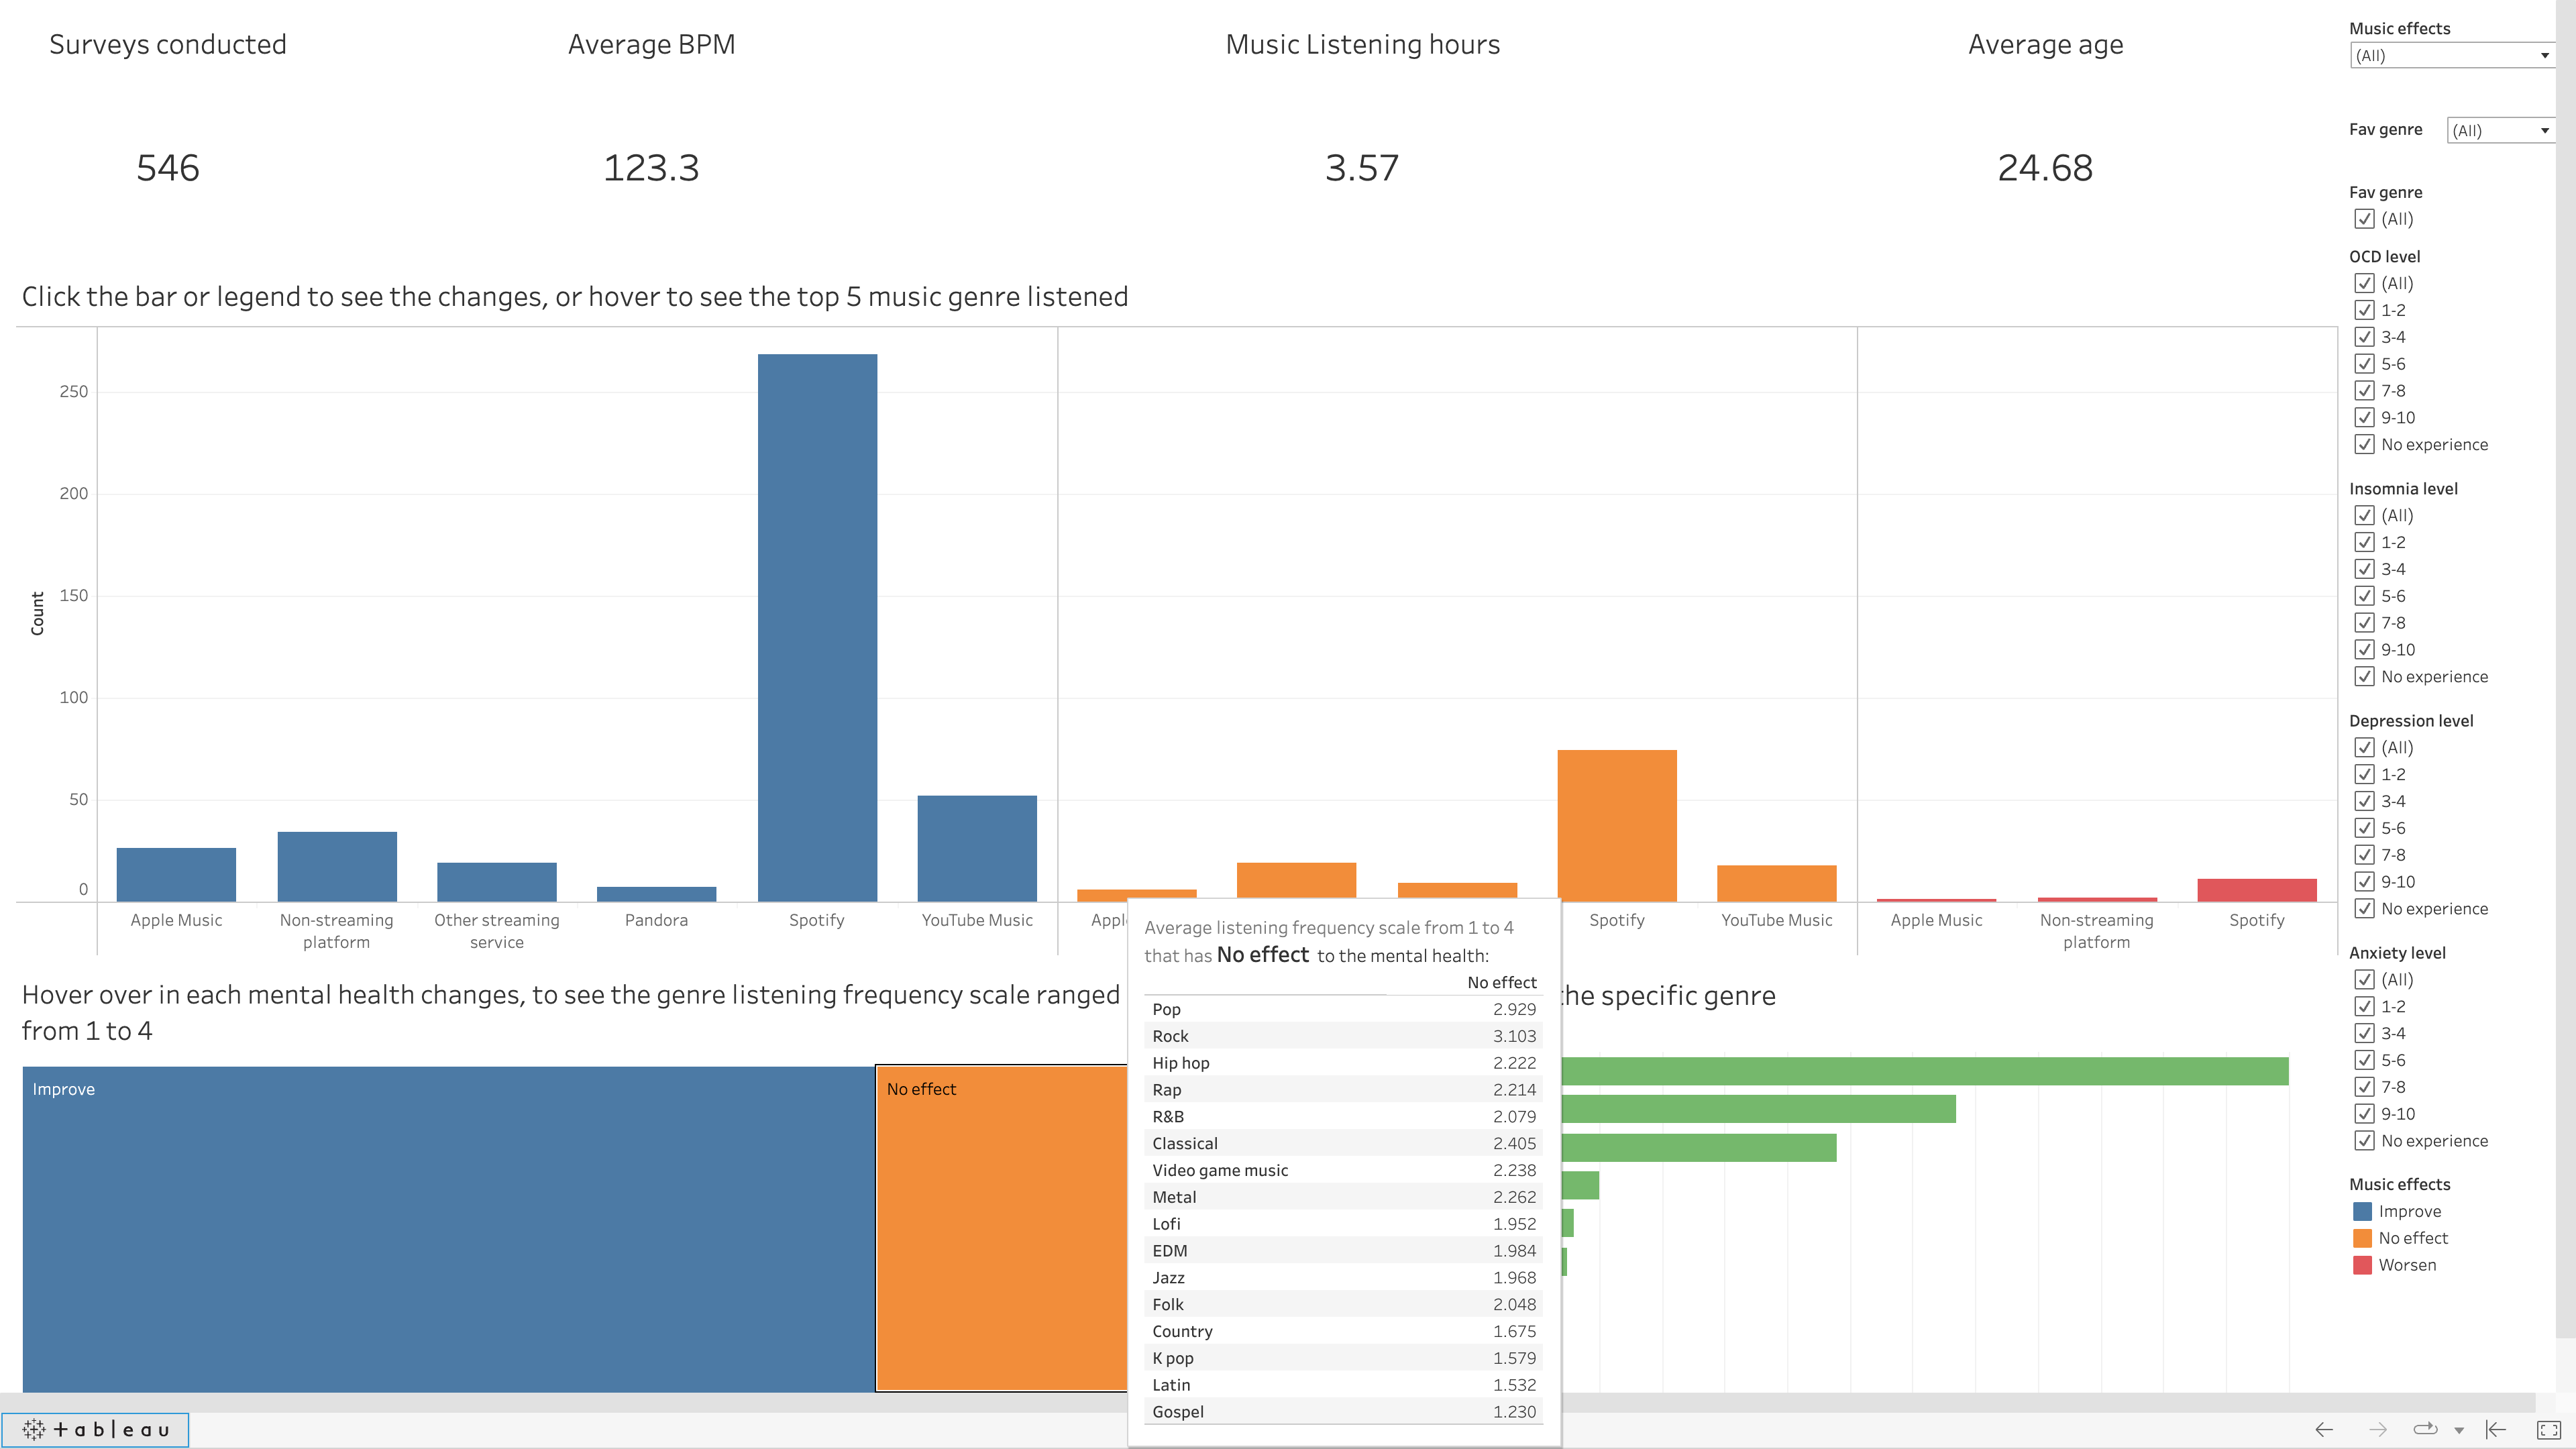

The dashboard page shown, as its layout file describes it:
{"tool":"tableau","page":{"name":"Music dashboard","canvas":[1000,1000],"units":"permille","ordinal":0},"visuals":[{"type":"worksheet","title":"Surveys conducted","mark":"Automatic","box":[3.5,6.3,102.3,140.3]},{"type":"worksheet","title":"Average BPM","mark":"Automatic","box":[105.8,6.3,121,140.3]},{"type":"worksheet","title":"Music Listening hours","mark":"Automatic","box":[226.8,6.3,177.6,140.3]},{"type":"worksheet","title":"Average age","mark":"Automatic","box":[404.4,6.3,510,140.3]},{"type":"filter","title":"Listening frequency in each effect section","param":"[federated.1oci5pb0qlg0t219j3f3d1bt4whb].[none:Music effects:nk]","box":[914.4,6.3,82.1,48]},{"type":"filter","title":"Listening platform","param":"[federated.1oci5pb0qlg0t219j3f3d1bt4whb].[none:Fav genre:nk]","box":[914.4,54.3,82.1,48]},{"type":"filter","title":"Listening frequency in each effect section","param":"[federated.1oci5pb0qlg0t219j3f3d1bt4whb].[none:Calculation_859624622874152964:nk","box":[914.4,102.3,82.1,155]},{"type":"worksheet","title":"Listening platform","mark":"Automatic","rows":["Primary streaming service"],"cols":["Music effects","Primary streaming service"],"box":[3.5,146.6,910.9,459.1]},{"type":"legend","title":"Listening platform","param":"[federated.1oci5pb0qlg0t219j3f3d1bt4whb].[none:Music effects:nk]","box":[857.6,203,50.9,107]},{"type":"filter","title":"Listening frequency in each effect section","param":"[federated.1oci5pb0qlg0t219j3f3d1bt4whb].[none:Calculation_859624622873759747:nk","box":[914.4,257.3,82.1,155]},{"type":"filter","title":"Listening frequency in each effect section","param":"[federated.1oci5pb0qlg0t219j3f3d1bt4whb].[none:Calculation_859624622873341953:nk","box":[914.4,412.2,82.1,155]},{"type":"filter","title":"Listening frequency in each effect section","param":"[federated.1oci5pb0qlg0t219j3f3d1bt4whb].[none:Calculation_859624622870994944:nk","box":[914.4,567.2,82.1,155]},{"type":"worksheet","title":"Listening frequency in each effect section","mark":"Automatic","box":[3.5,605.7,910.9,388]}]}

Visuals, with their boxes on the dashboard's canvas, which has no fixed pixel size, in thousandths of its width and height (x1, y1, x2, y2). These are canvas units, not pixel positions in the 2576x1449 screenshot, which may show the page scaled, cropped or inside an application window:
"Surveys conducted" worksheet: 4 6 106 147
"Average BPM" worksheet: 106 6 227 147
"Music Listening hours" worksheet: 227 6 404 147
"Average age" worksheet: 404 6 914 147
"Listening frequency in each effect section" filter: 914 6 996 54
"Listening platform" filter: 914 54 996 102
"Listening frequency in each effect section" filter: 914 102 996 257
"Listening platform" worksheet: 4 147 914 606
"Listening platform" legend: 858 203 908 310
"Listening frequency in each effect section" filter: 914 257 996 412
"Listening frequency in each effect section" filter: 914 412 996 567
"Listening frequency in each effect section" filter: 914 567 996 722
"Listening frequency in each effect section" worksheet: 4 606 914 994
